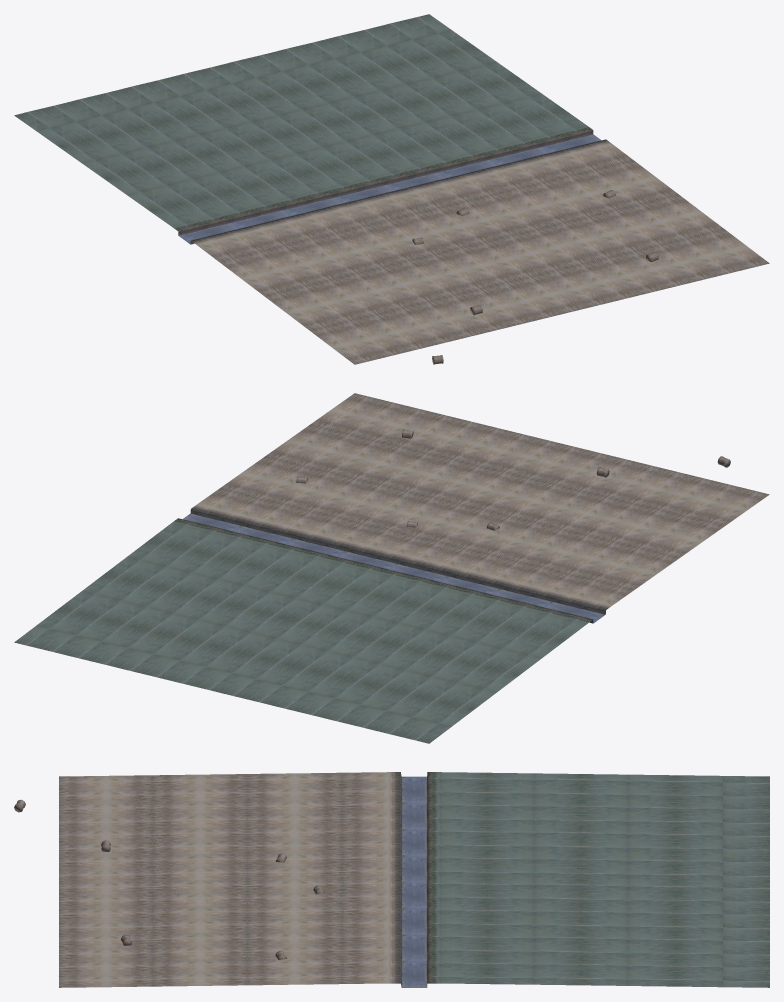
The model's file is realistic_outside.glb.
The picture shows the model from 3 angles, top to bottom: view 1: azimuth 30°, elevation 25°; view 2: azimuth 150°, elevation 25°; view 3: azimuth 270°, elevation 25°; orthographic projection. The views are drawn at different scales.
Parts seen in each view (by area): view 1: wheat, ground; view 2: wheat, ground; view 3: wheat, ground.
Boxes of the visible parts, box(x1,y1,x2,y2) form: wheat: box(14, 14, 769, 364); ground: box(178, 134, 601, 244); wheat: box(14, 393, 769, 743); ground: box(183, 513, 605, 623); wheat: box(59, 772, 769, 987); ground: box(401, 776, 427, 987).
Size of what is drawn, in the model's own units: 145 by 2.86 by 220.
Materials: 1 (1 with a texture image).
